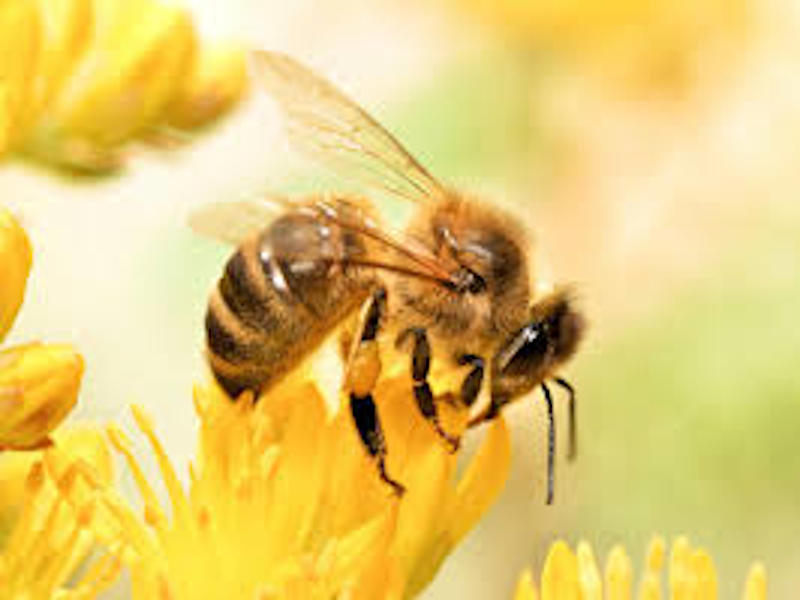abeja: (164, 49, 627, 513)
